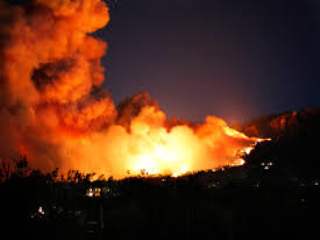fire: (130, 150, 216, 178)
smoke: (15, 8, 113, 151)
